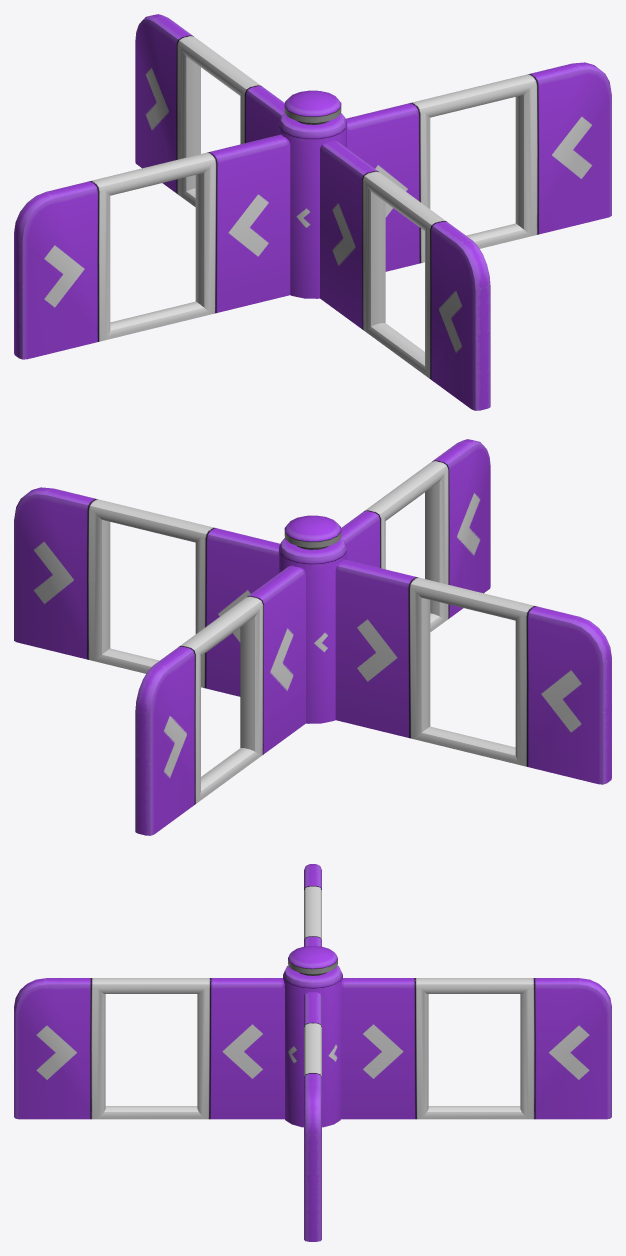
File: OBS0110178.fbx
3 views of the same model, one above another, from view 1: azimuth 30°, elevation 25°; view 2: azimuth 150°, elevation 25°; view 3: azimuth 270°, elevation 25° (orthographic). The views are drawn at different scales.
Visible parts, largest first — view 1: smOBS0110178; view 2: smOBS0110178; view 3: smOBS0110178.
Part boxes in pixels (bbox=[...]): smOBS0110178: bbox=[14, 14, 611, 410]; smOBS0110178: bbox=[14, 439, 611, 835]; smOBS0110178: bbox=[14, 864, 611, 1241].
Bounding box in the file's own units: 805 × 245 × 805.
Materials: 1 (1 with a texture image).
